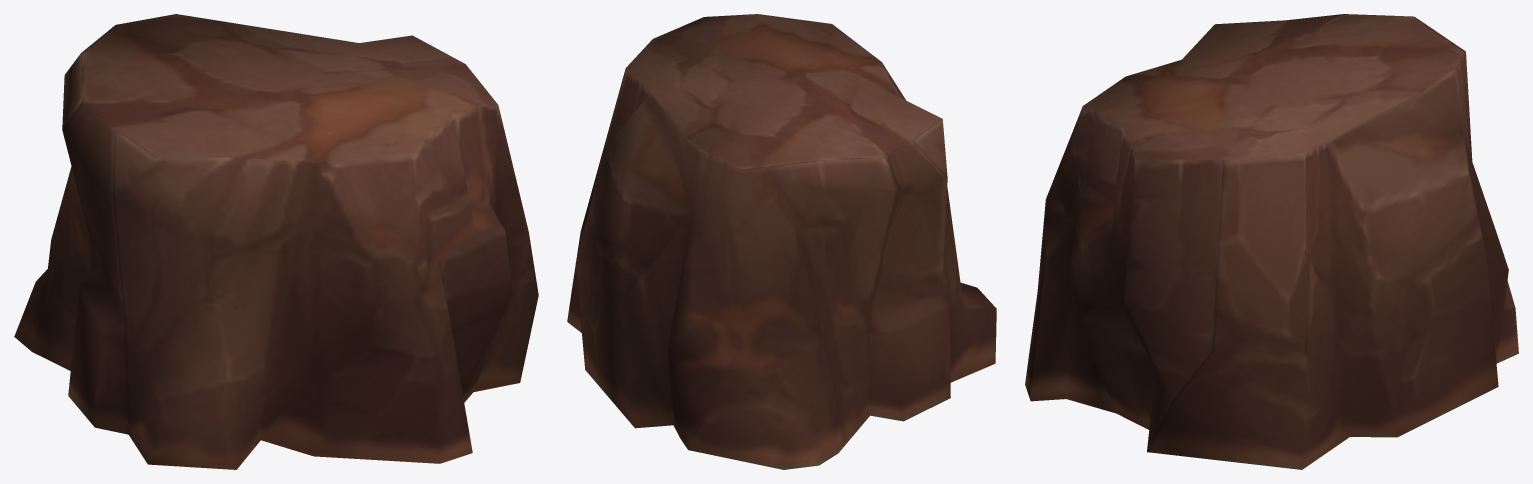
File: shitou_03.FBX
3 renders of one model, left to right at view 1: azimuth 30°, elevation 25°; view 2: azimuth 150°, elevation 25°; view 3: azimuth 270°, elevation 25°, orthographic. The views are drawn at different scales.
Visible parts, largest first — view 1: shitou_03; view 2: shitou_03; view 3: shitou_03.
Boxes of the visible parts, x1,y1,x2,y2 form: shitou_03: (14, 14, 538, 469); shitou_03: (567, 14, 996, 469); shitou_03: (1025, 14, 1518, 469).
Bounding box in the file's own units: 862 × 619 × 945.
